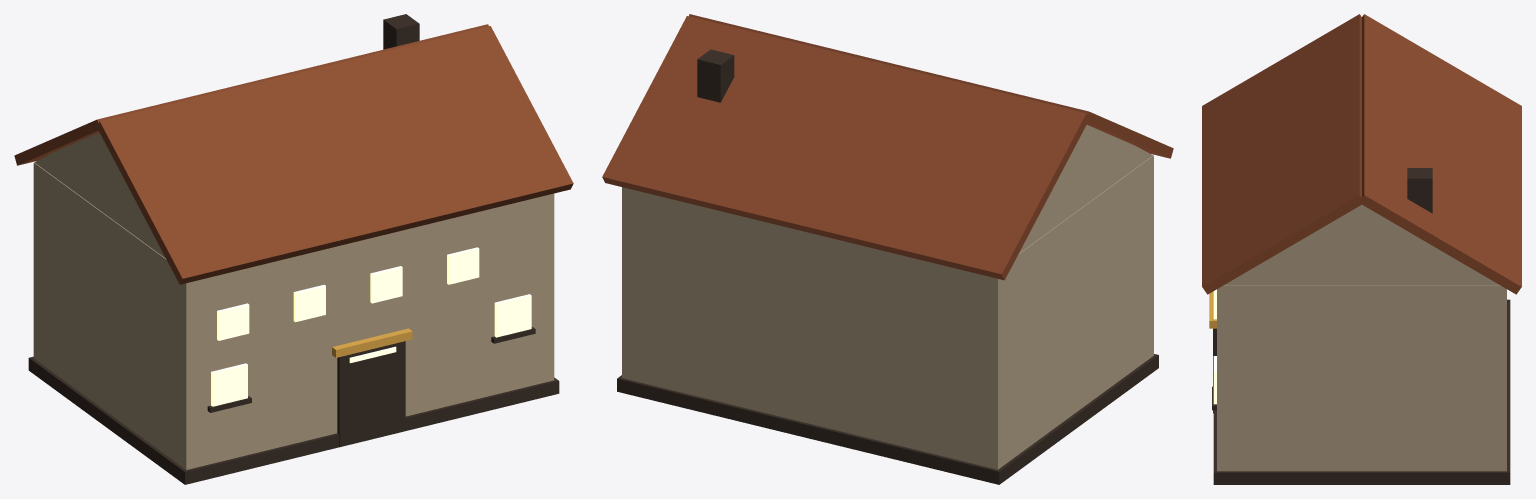
Rendered from bld_twostory.glb.
The picture shows the model from 3 angles, left to right: view 1: azimuth 30°, elevation 25°; view 2: azimuth 150°, elevation 25°; view 3: azimuth 270°, elevation 25°; orthographic projection. The views are drawn at different scales.
Parts seen in each view (by area): view 1: building, roof; view 2: building, roof; view 3: roof, building.
Part boxes in pixels (left/top/right/bottom): building: left=28, top=14, right=559, bottom=484; roof: left=14, top=24, right=573, bottom=284; building: left=617, top=49, right=1158, bottom=484; roof: left=602, top=14, right=1173, bottom=280; roof: left=1202, top=14, right=1521, bottom=294; building: left=1209, top=168, right=1510, bottom=484.
Size of the model in its own units: 5.1 by 3.86 by 3.8.
